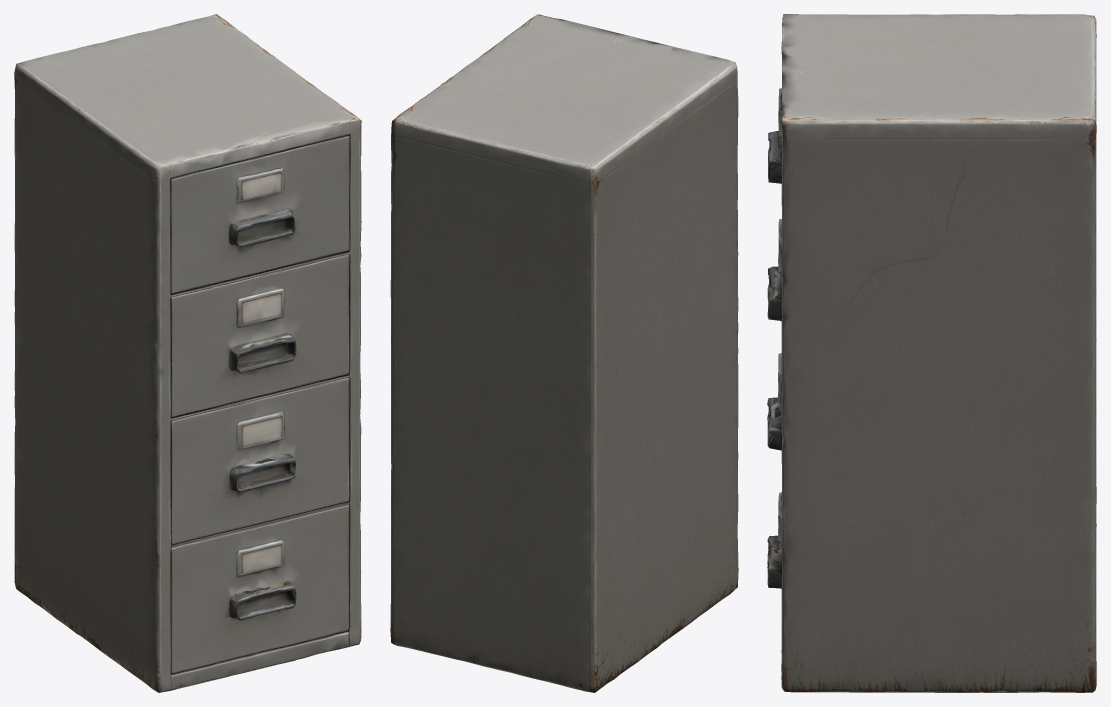
The model's file is VAR_Yellow_FilingCabinet.fbx.
The picture shows the model from 3 angles, left to right: view 1: azimuth 30°, elevation 25°; view 2: azimuth 150°, elevation 25°; view 3: azimuth 270°, elevation 25°; orthographic projection. The views are drawn at different scales.
Parts seen in each view (by area): view 1: texture_mapping; view 2: texture_mapping; view 3: texture_mapping.
Boxes of the visible parts, box(x1,y1,x2,y2) form: texture_mapping: box(14, 14, 361, 692); texture_mapping: box(390, 14, 738, 692); texture_mapping: box(767, 14, 1096, 692).
Size of the model in its own units: 0.4112 by 0.5214 by 1.
1 material, 1 textured.
